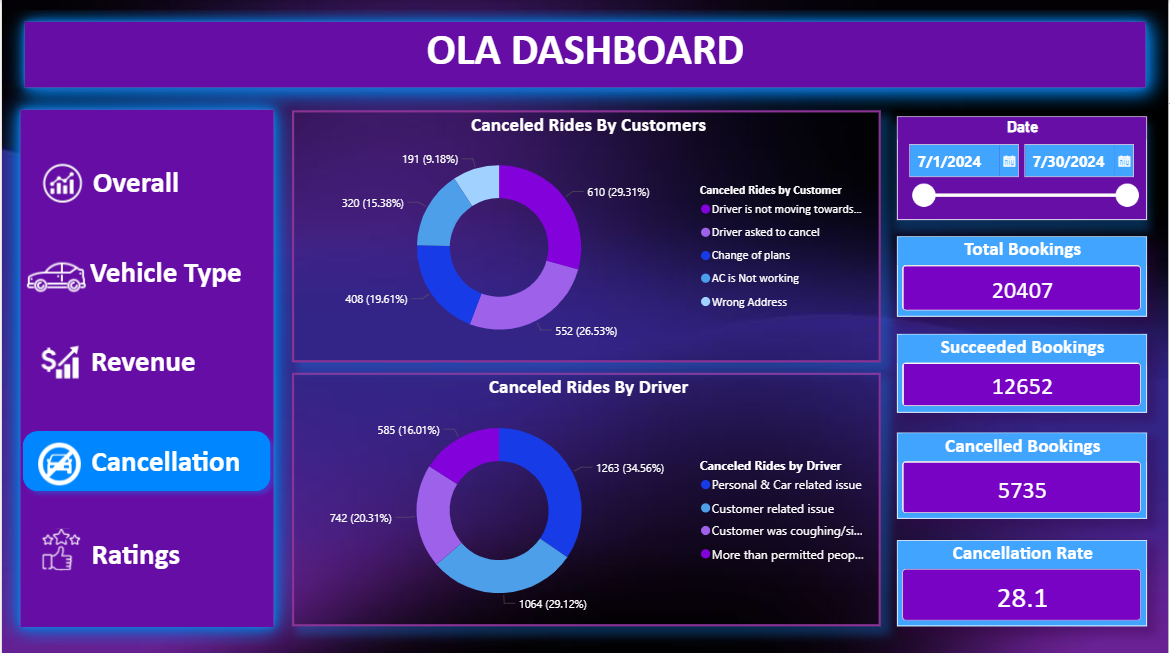

The page's visual inventory and layout, read from the dashboard file:
{"tool":"powerbi","page":{"name":"Cancellation","canvas":[1280,720],"ordinal":3},"visuals":[{"type":"shape","box":[0,0,1280.6,122.2],"z":0},{"type":"textbox","box":[0,20.8,1280.6,80.6],"z":1000},{"type":"shape","box":[0,101.5,318.4,607.9],"z":2000},{"type":"textbox","box":[40,584.3,214.3,80],"z":3000},{"type":"textbox","box":[48.6,372.9,214.3,62.9],"z":4000},{"type":"textbox","box":[72.9,275.7,214.3,84.3],"z":5000},{"type":"shape","box":[14.3,465.7,290,84.3],"z":6000},{"type":"textbox","box":[13.9,176.4,266.7,76.4],"z":7000},{"type":"textbox","box":[72.9,482.9,214.3,81.4],"z":8000},{"type":"actionButton","box":[44.4,584.7,197.2,65.3],"z":9000},{"type":"actionButton","box":[57.1,372.9,197.1,64.3],"z":10000},{"type":"actionButton","box":[43.9,275.8,236,65.9],"z":11000},{"type":"actionButton","box":[48.6,176.4,197.2,65.3],"z":12000},{"type":"actionButton","box":[27.4,164.7,82.3,78.2],"z":13000},{"type":"actionButton","box":[27.4,359.5,74.1,78.2],"z":14000},{"type":"actionButton","box":[23.3,269,74.1,72.7],"z":15000},{"type":"actionButton","box":[35.7,483,59,54.9],"z":16000},{"type":"actionButton","box":[38.4,577.7,67.2,53.5],"z":17000},{"type":"donutChart","title":"Canceled Rides By Driver","fields":{"Category":["ola bookings.Canceled_Rides_by_Driver"],"Y":["CountNonNull(ola bookings.Canceled_Rides_by_Driver)"]},"box":[318.4,410.3,646.3,278.6],"z":18000},{"type":"donutChart","title":"Canceled Rides By Customers","fields":{"Category":["ola bookings.Canceled_Rides_by_Customer"],"Y":["CountNonNull(ola bookings.Canceled_Rides_by_Customer)"]},"box":[318.4,122.1,646.3,277.2],"z":19000},{"type":"slicer","title":"Date","fields":{"Values":["ola bookings.Date"]},"box":[982.5,129,274.4,113.9],"z":20000},{"type":"cardVisual","title":"Total Bookings","fields":{"Data":["CountNonNull(ola bookings.Booking_ID)"]},"box":[982.5,260.7,274.4,87.8],"z":21000},{"type":"cardVisual","title":"Succeeded Bookings","fields":{"Data":["CountNonNull(ola bookings.Booking_ID)"]},"box":[982.5,367.8,274.4,86.4],"z":22000},{"type":"cardVisual","title":"Cancellation Rate","fields":{"Data":["ola bookings.canceledpercentage"]},"box":[982.5,594.2,274.4,94.7],"z":23000},{"type":"cardVisual","title":"Cancelled Bookings","fields":{"Data":["CountNonNull(ola bookings.Booking_ID)"]},"box":[982.5,476.2,274.4,94.7],"z":24000}]}

Visuals, with their boxes in screenshot pixels (x1, y1, x2, y2), scaled from the page's 1280x720 canvas onto the 1170x653 screenshot:
shape: 0:0:1169:111
textbox: 0:19:1169:92
shape: 0:92:291:643
textbox: 37:530:232:602
textbox: 44:338:240:395
textbox: 67:250:263:326
shape: 13:422:278:499
textbox: 13:160:256:229
textbox: 67:438:263:512
actionButton: 41:530:221:590
actionButton: 52:338:232:397
actionButton: 40:250:256:310
actionButton: 44:160:225:219
actionButton: 25:149:100:220
actionButton: 25:326:93:397
actionButton: 21:244:89:310
actionButton: 33:438:87:488
actionButton: 35:524:97:572
"Canceled Rides By Driver" donutChart: 291:372:882:625
"Canceled Rides By Customers" donutChart: 291:111:882:362
"Date" slicer: 898:117:1149:220
"Total Bookings" cardVisual: 898:236:1149:316
"Succeeded Bookings" cardVisual: 898:334:1149:412
"Cancellation Rate" cardVisual: 898:539:1149:625
"Cancelled Bookings" cardVisual: 898:432:1149:518
